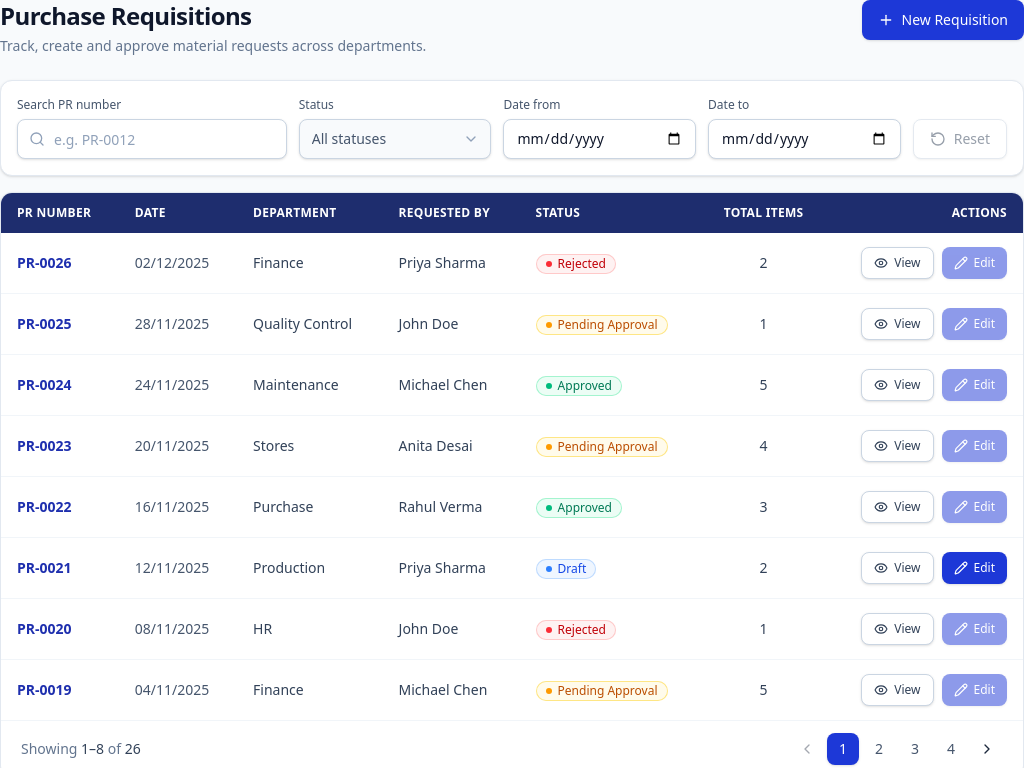
Test: Purchase requisition flows › lists seeded requisitions with pagination and PR-number search
Expected: the link "PR-0026" is shown, x1=17 y1=253 x2=72 y2=272
Expected: the text "26" is shown, x1=125 y1=739 x2=141 y2=758
In the field with placeholder "e.g. PR-0012": (152,139) x1=17 y1=119 x2=287 y2=159, type "0012"
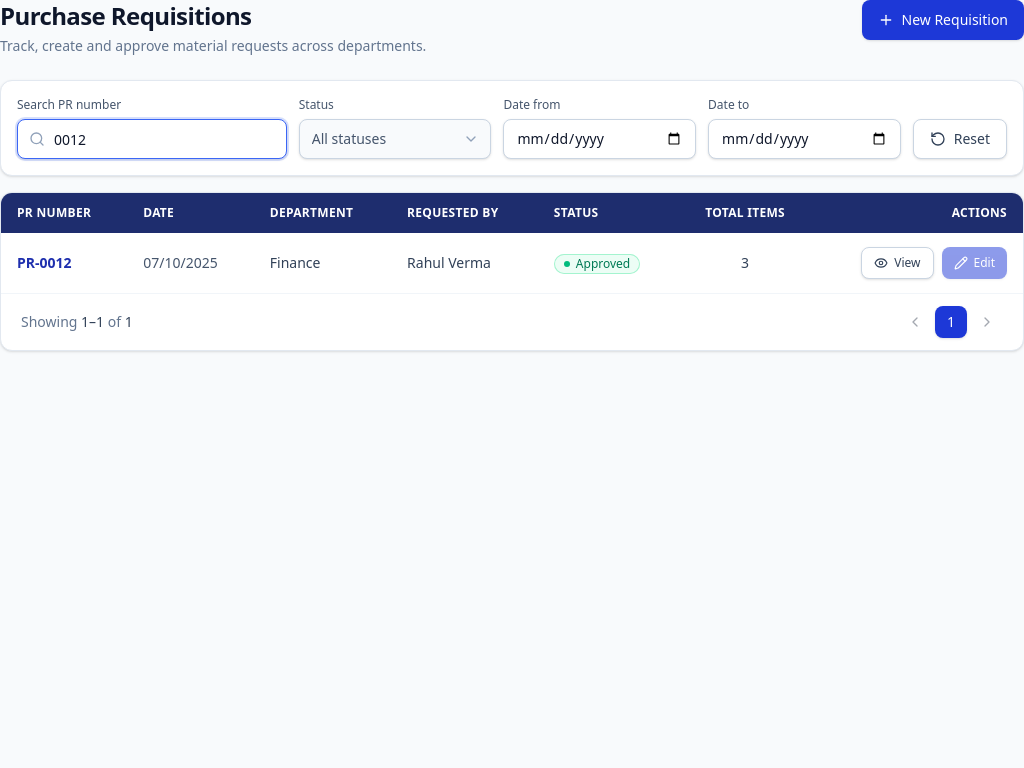
Expected: the link "PR-0012" is shown, x1=17 y1=253 x2=72 y2=272
